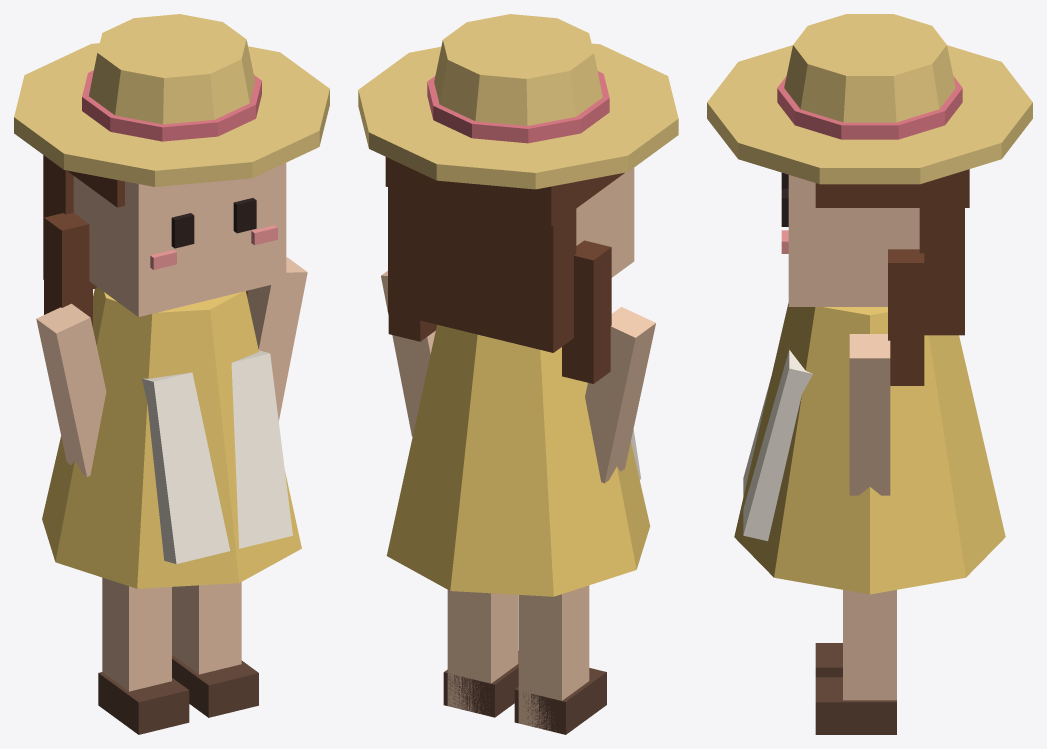
The model's file is villager.glb.
3 views of the same model, side by side, from view 1: azimuth 30°, elevation 25°; view 2: azimuth 150°, elevation 25°; view 3: azimuth 270°, elevation 25° (orthographic).
Parts seen in each view (by area): view 1: Villager; view 2: Villager; view 3: Villager.
Boxes of the visible parts, x1,y1,x2,y2 form: Villager: (14,14,329,734); Villager: (358,14,678,734); Villager: (707,14,1032,734).
Size of the model in its own units: 0.6848 by 1.61 by 0.72.
